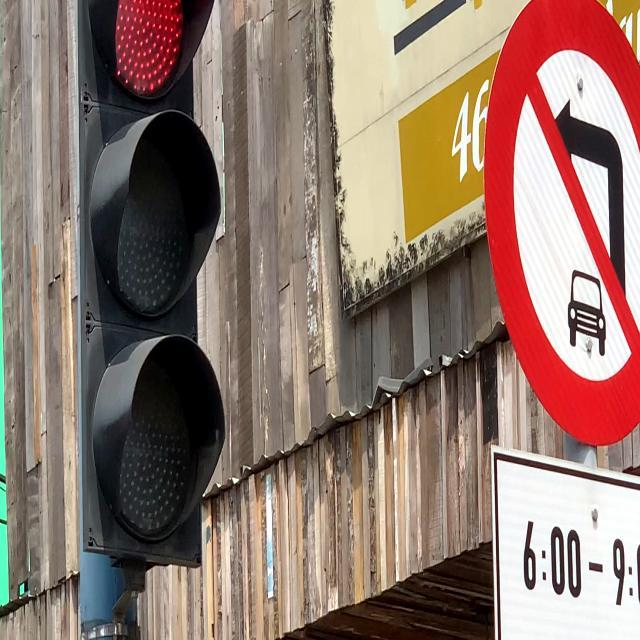Bien bao cam xe o to re trai: (487, 0, 640, 452)
